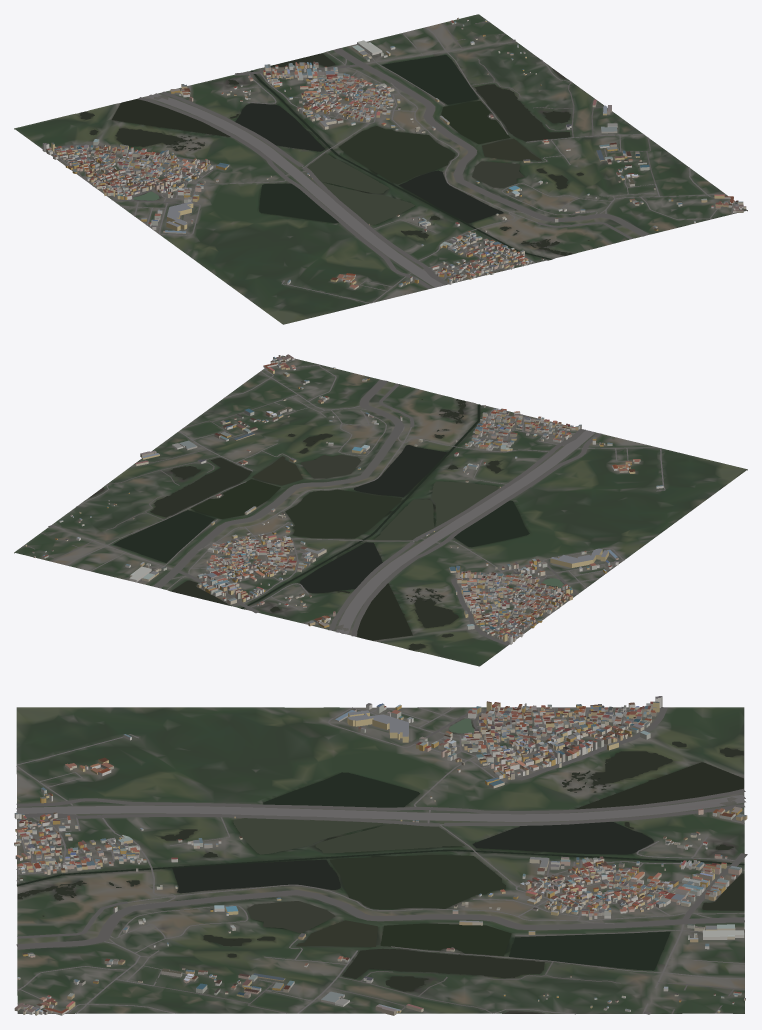
The picture shows the model from 3 angles, top to bottom: view 1: azimuth 30°, elevation 25°; view 2: azimuth 150°, elevation 25°; view 3: azimuth 270°, elevation 25°; orthographic projection. The views are drawn at different scales.
Visible parts, largest first — view 1: ground, water, buildings, roads; view 2: ground, water, buildings, roads; view 3: ground, water, buildings, roads.
Boxes of the visible parts, left/top/right/bottom form: ground: left=14, top=14, right=747, bottom=324; water: left=80, top=53, right=589, bottom=259; buildings: left=42, top=17, right=746, bottom=289; roads: left=51, top=22, right=735, bottom=303; ground: left=14, top=355, right=747, bottom=666; water: left=88, top=399, right=563, bottom=650; buildings: left=25, top=354, right=663, bottom=644; roads: left=25, top=359, right=665, bottom=645; ground: left=16, top=707, right=744, bottom=1013; water: left=17, top=718, right=744, bottom=1013; buildings: left=14, top=696, right=747, bottom=1015; roads: left=16, top=707, right=747, bottom=1014.
Size of the model in its own units: 1417 by 27.08 by 1414.
